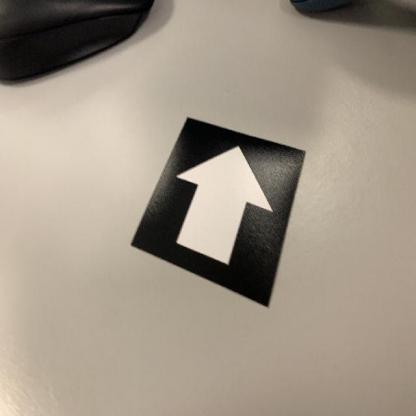up: (129, 116, 309, 312)
